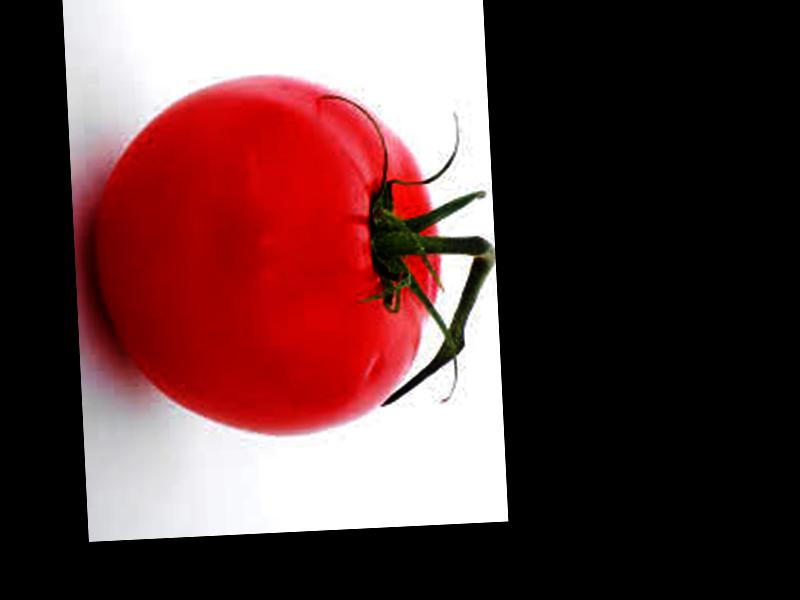Tomato: (83, 64, 446, 441)
